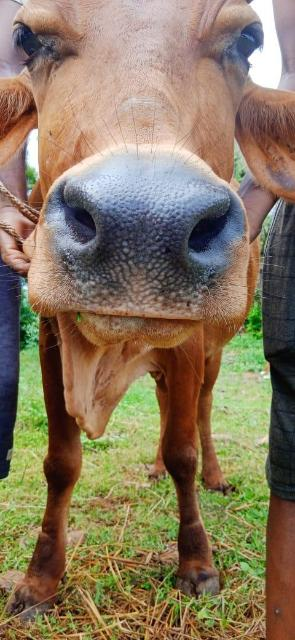Muzzle: (66, 171, 204, 313)
